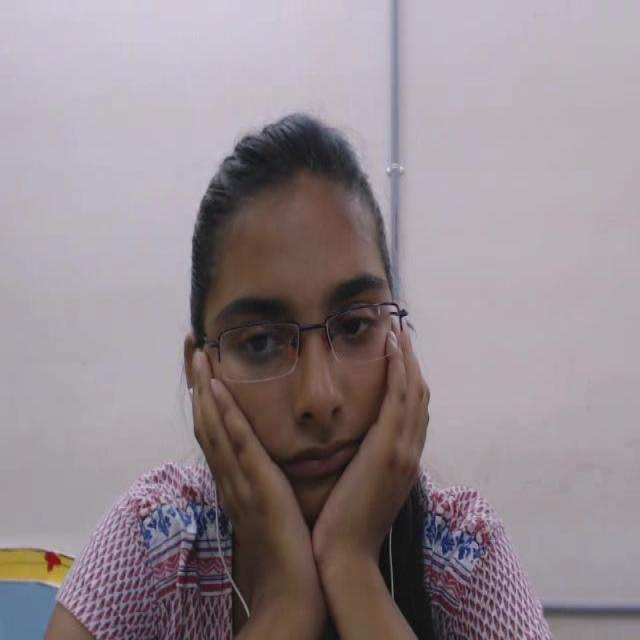Bored: (143, 87, 430, 569)
